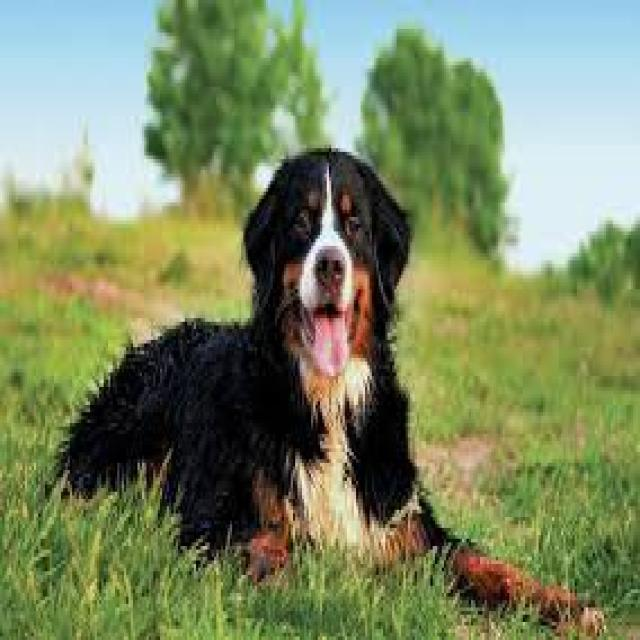Dog: (60, 137, 432, 586)
